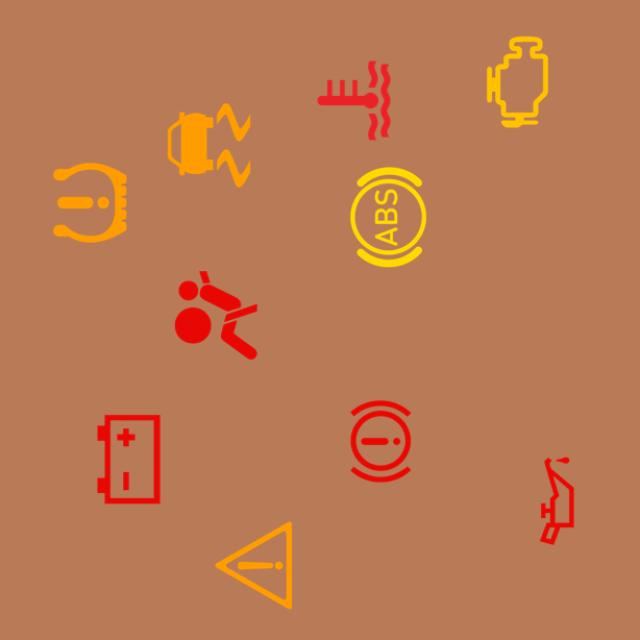Anti Lock Braking System: (334, 163, 443, 272)
Braking System Issue: (326, 387, 436, 496)
Charging System Issue: (74, 404, 183, 514)
Check Engine: (463, 27, 572, 137)
Electronic Stability Problem -ESP-: (154, 91, 264, 200)
Engine Overheating Warning Light: (299, 46, 409, 155)
Low Engine Oil Warning Light: (502, 446, 612, 556)
Low Tire Pressure Warning Light: (35, 148, 145, 257)
Master warning light: (199, 511, 309, 620)
SRS-Airbag: (162, 261, 271, 370)
